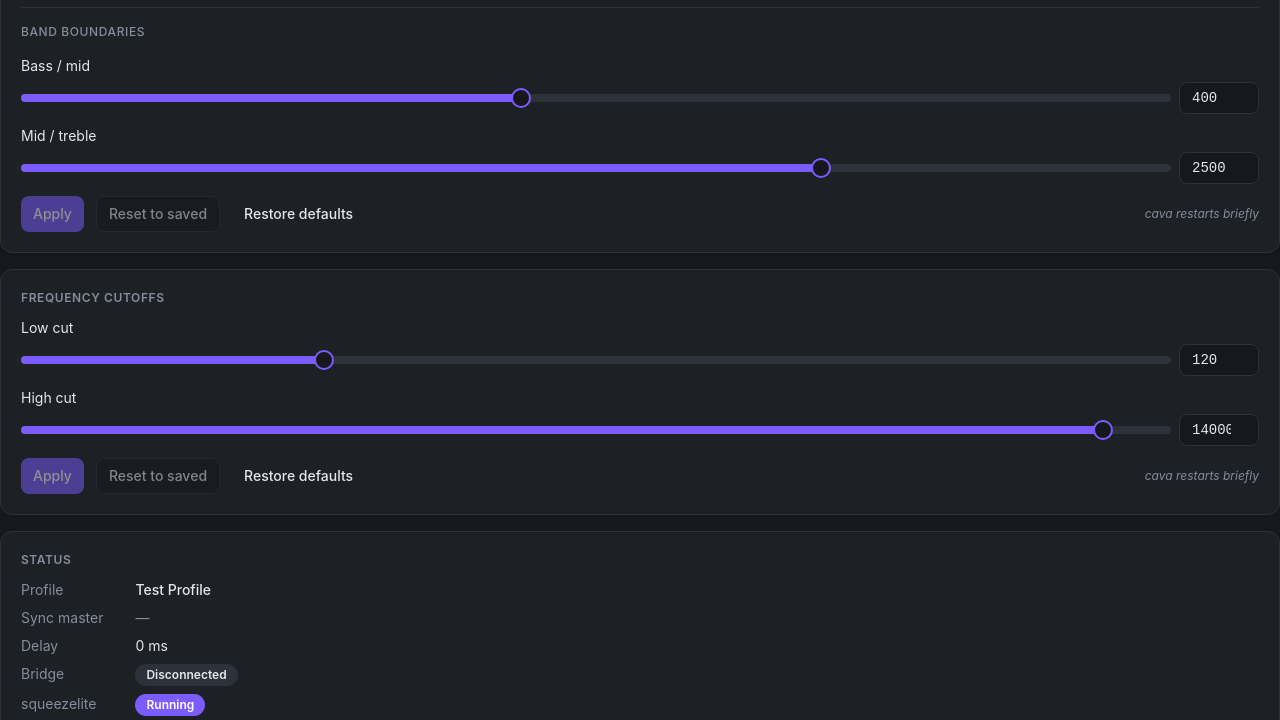
NowPlaying — Reset to saved & Restore factory defaults › Cutoffs — Reset to saved › Low cut: Reset goes to APPLIED value, not factory default
(page scrolled)
Step 1. Replace the text in the number field with test id "low-cut-hz" with "300" → coordinates (1219, 360), box [1179,344,1259,376]
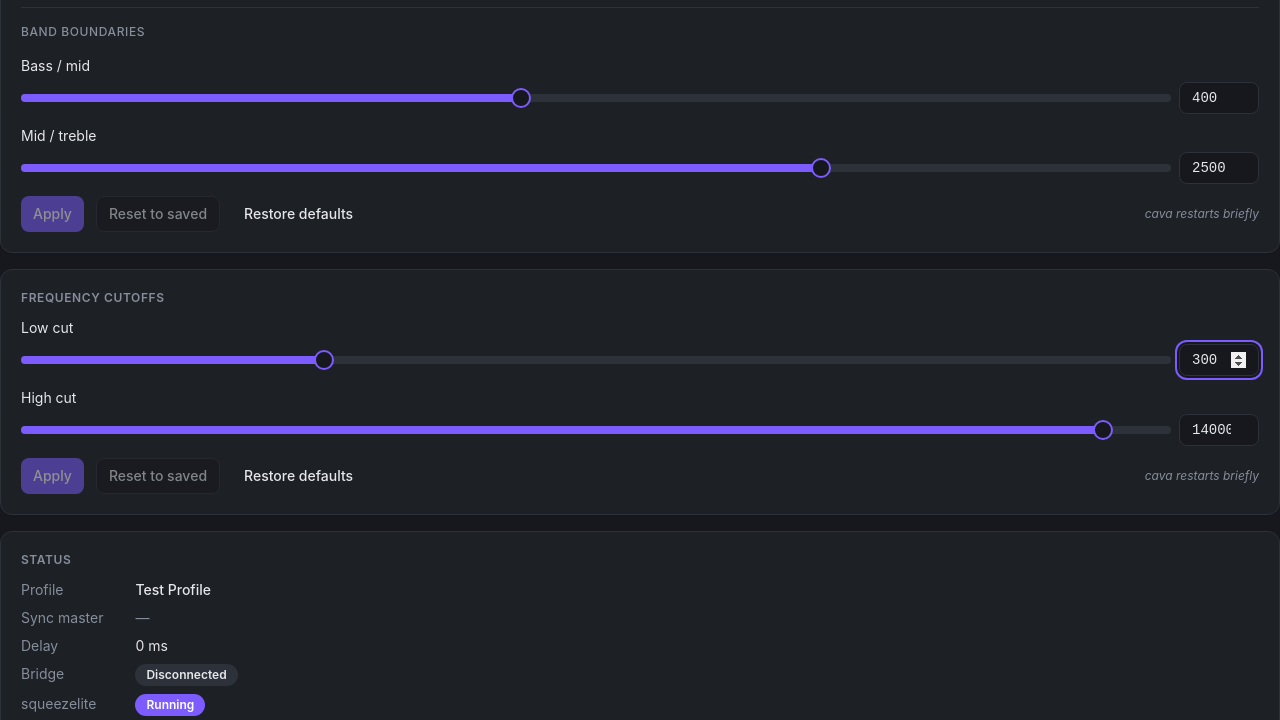
Step 2. Press Enter
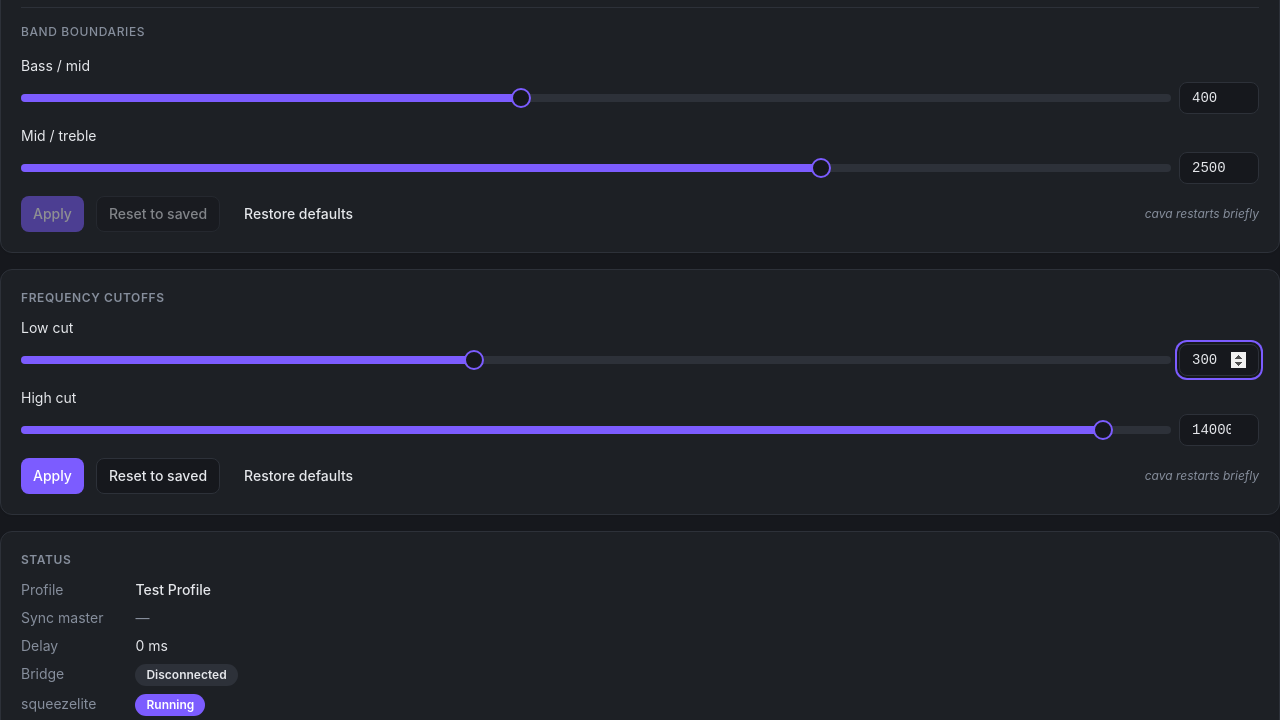
Expected: the button with test id "reset-cutoffs" is enabled
Step 3. Click the button with test id "reset-cutoffs" → coordinates (158, 476), box [96,458,220,494]
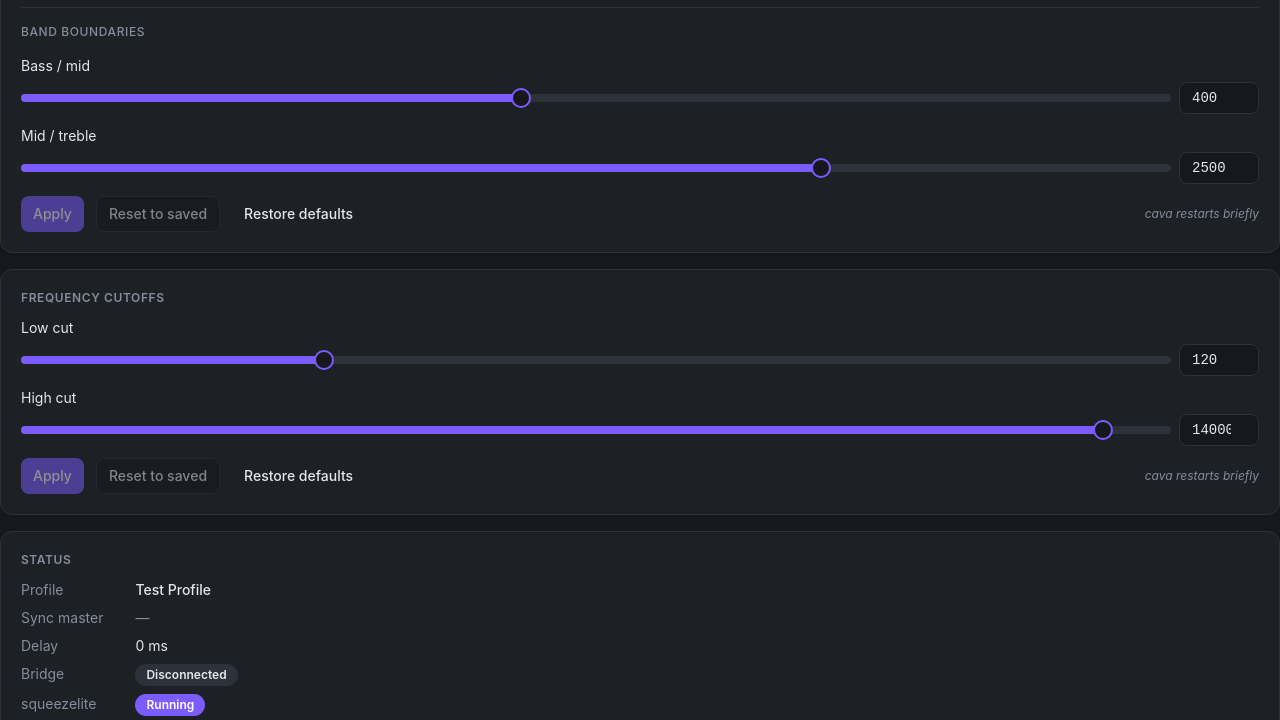
Expected: the number field with test id "low-cut-hz" holds "120", [1179,344,1259,376]
Expected: the number field with test id "low-cut-hz" does not hold "50", [1179,344,1259,376]
Expected: the button with test id "reset-cutoffs" is disabled, [96,458,220,494]
